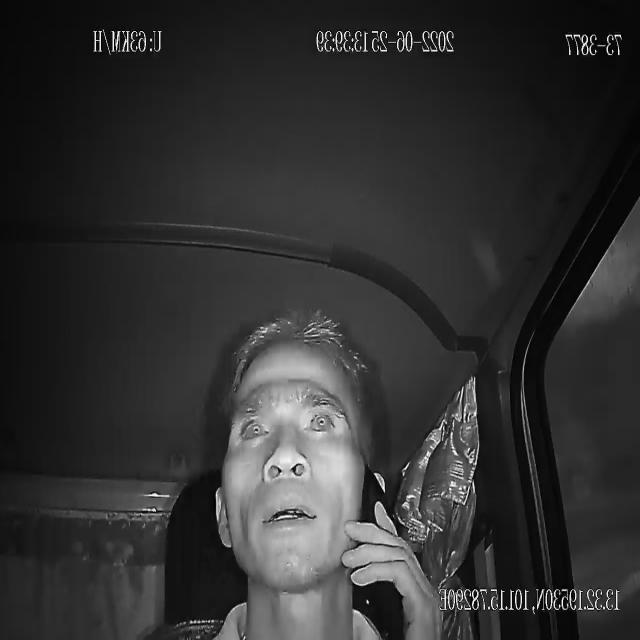phone: (363, 458, 408, 640)
